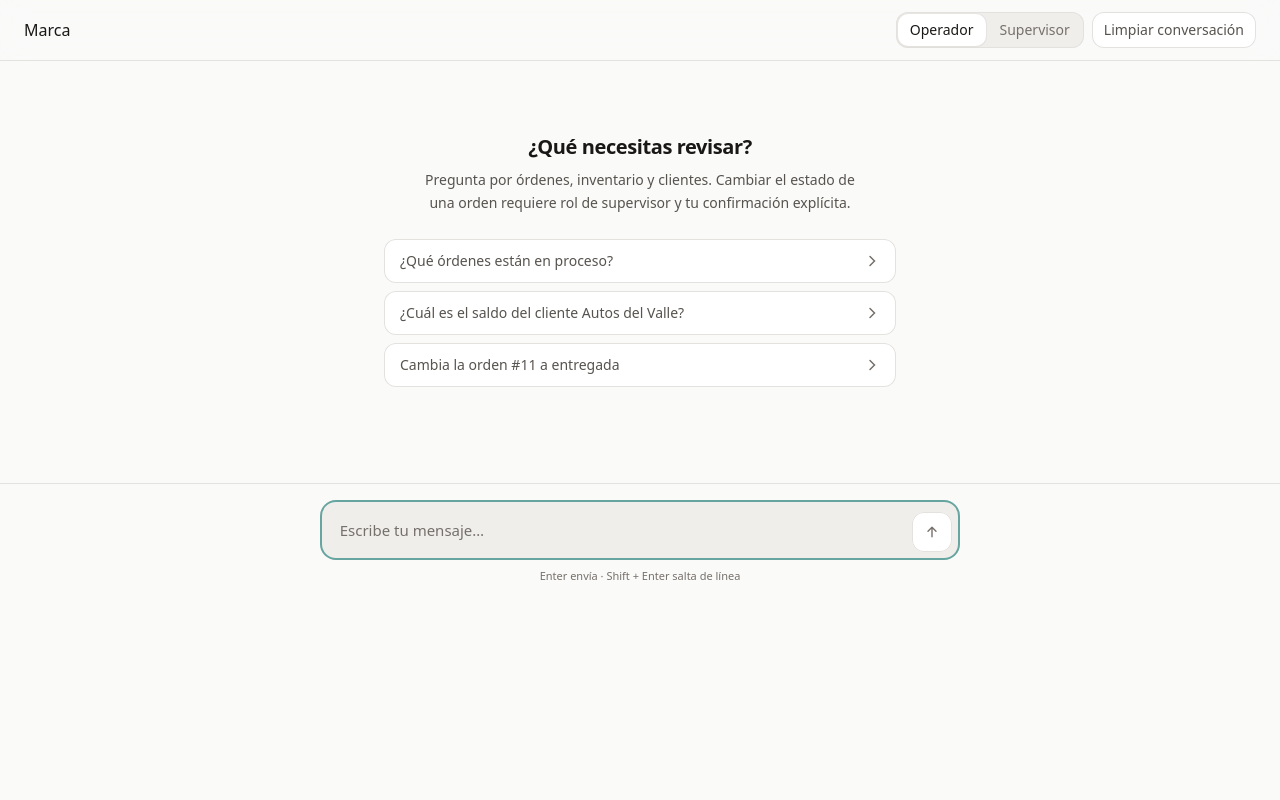
ChatWindow › executes the change when the supervisor presses Confirmar
In the text box labelled "Escribe tu mensaje…": (616, 530) 328,508 -> 904,552, type "cambia la orden #3 a entregada"
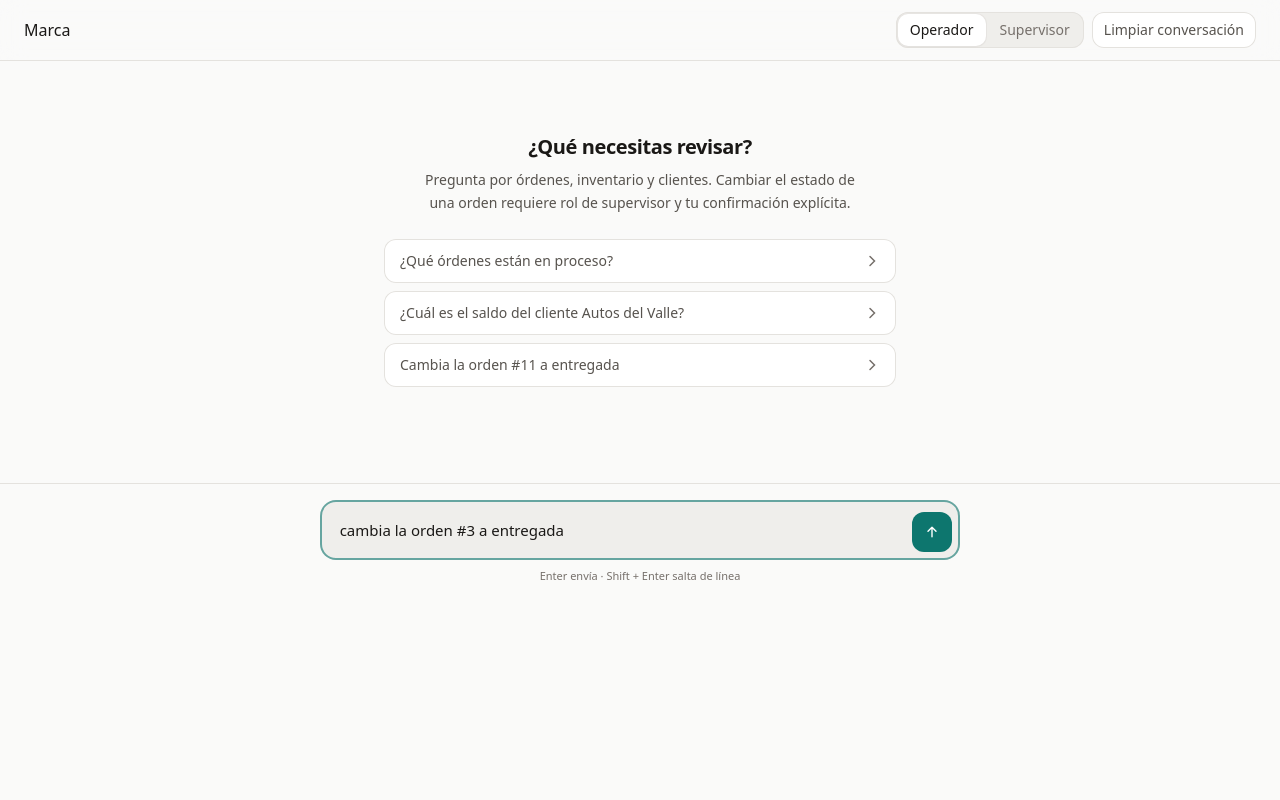
Click the button named "enviar": (932, 532) 912,512 -> 952,552
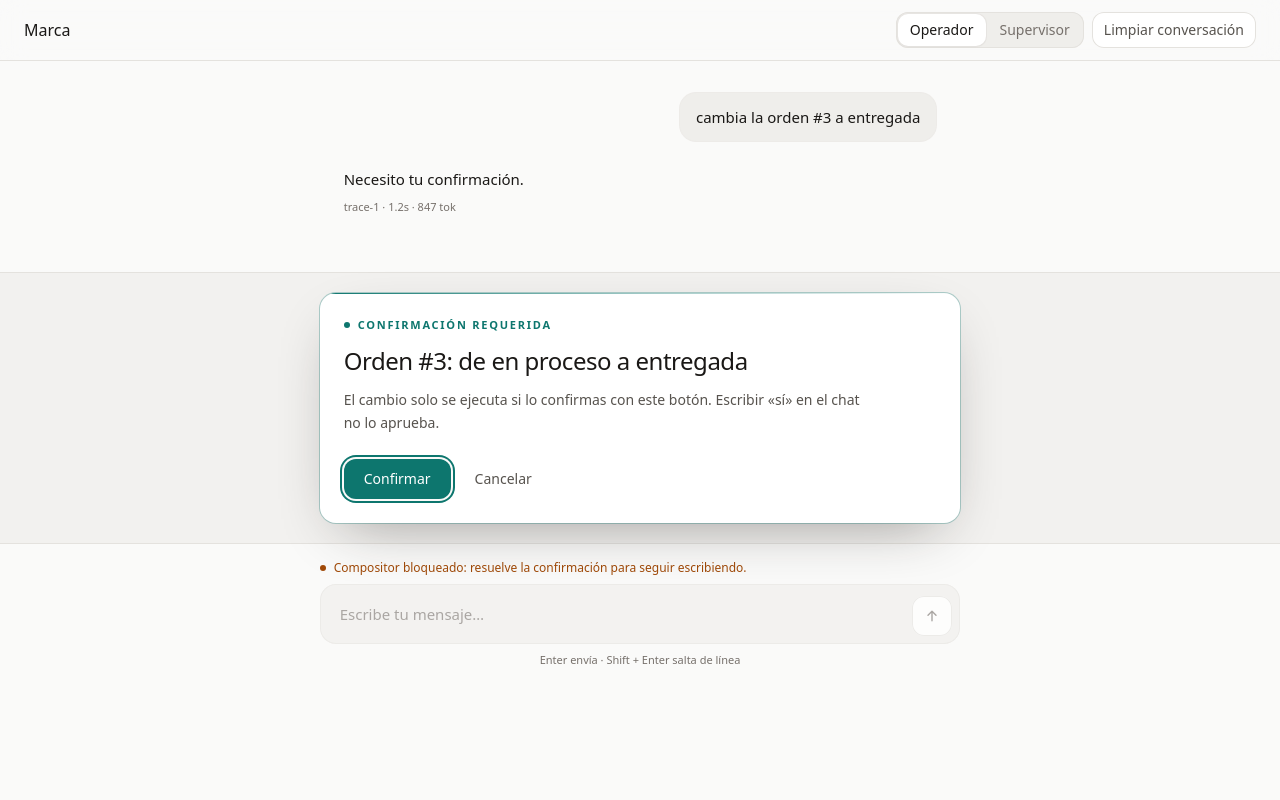
Click the button "Confirmar": (397, 478) 344,458 -> 451,498
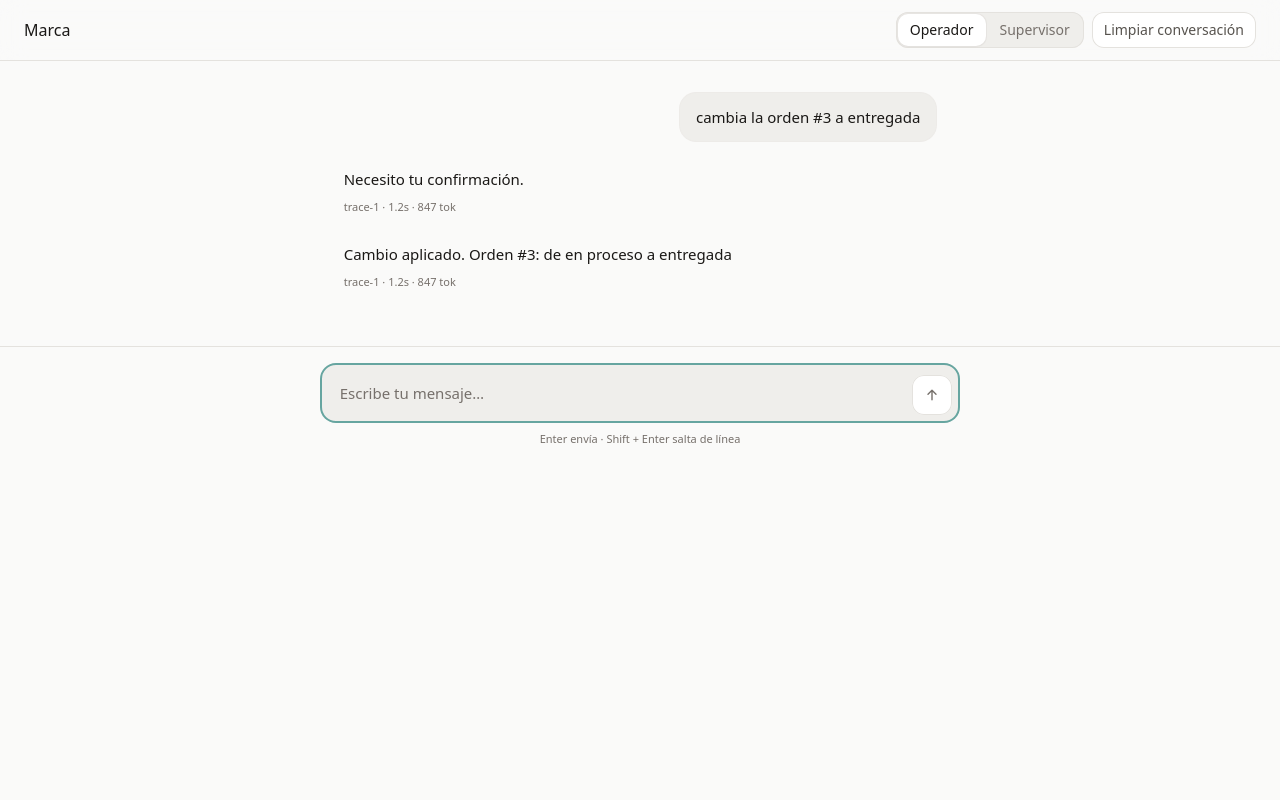
Expected: the text "Cambio aplicado. Orden #3: de en proceso a entregada" is shown, 344,244 -> 732,264
Expected: the message is gone
